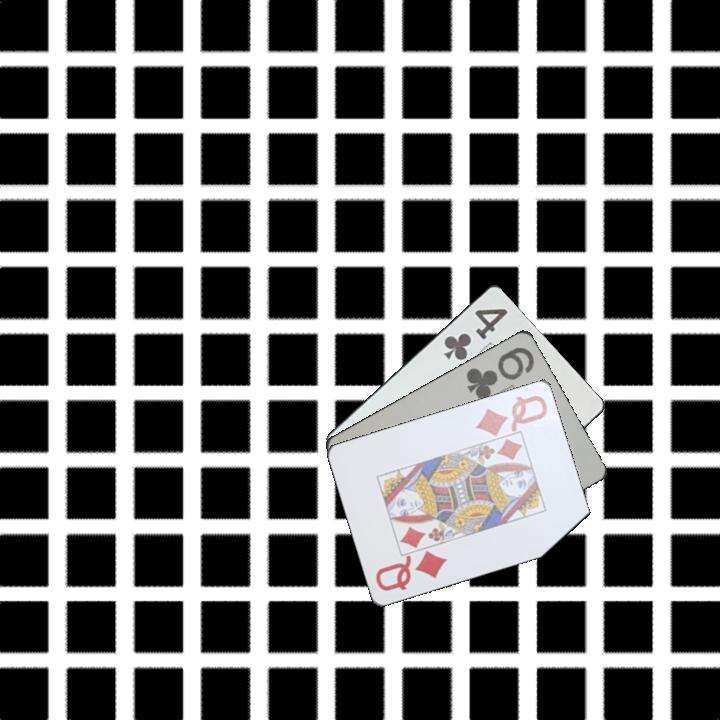4c: (440, 304, 511, 363)
6c: (463, 343, 537, 402)
Qd: (371, 547, 451, 594), (472, 391, 550, 438)
